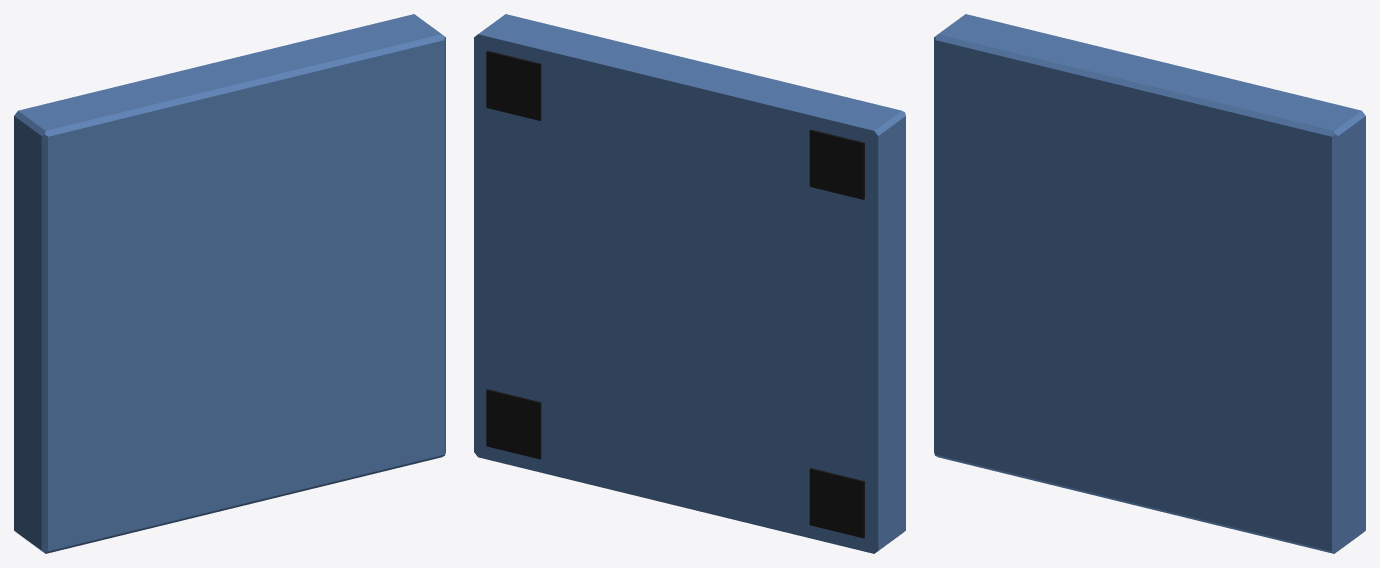
The model's file is payload_tray_wide.obj.
3 views of the same model, side by side, from view 1: azimuth 30°, elevation 25°; view 2: azimuth 150°, elevation 25°; view 3: azimuth 330°, elevation 25° (orthographic).
Parts seen in each view (by area): view 1: body; view 2: body, feet; view 3: body.
Boxes of the visible parts, x1=… form: body: x1=14, y1=14, x2=445, y2=553; body: x1=474, y1=14, x2=905, y2=553; feet: x1=486, y1=50, x2=864, y2=538; body: x1=934, y1=14, x2=1365, y2=553.
Bounding box in the file's own units: 0.6 × 0.6 × 0.08.
